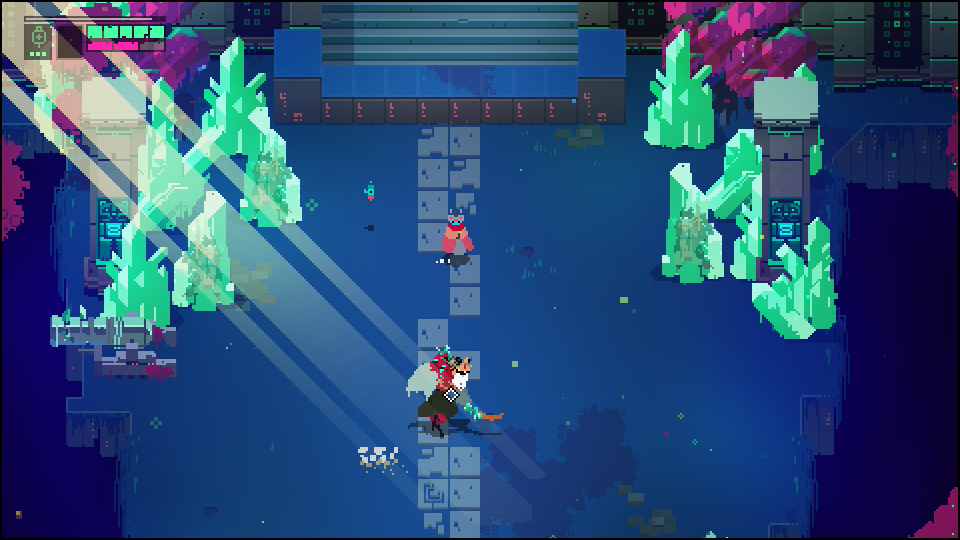hanged_man: (406, 345, 511, 440)
player: (437, 205, 478, 272)
